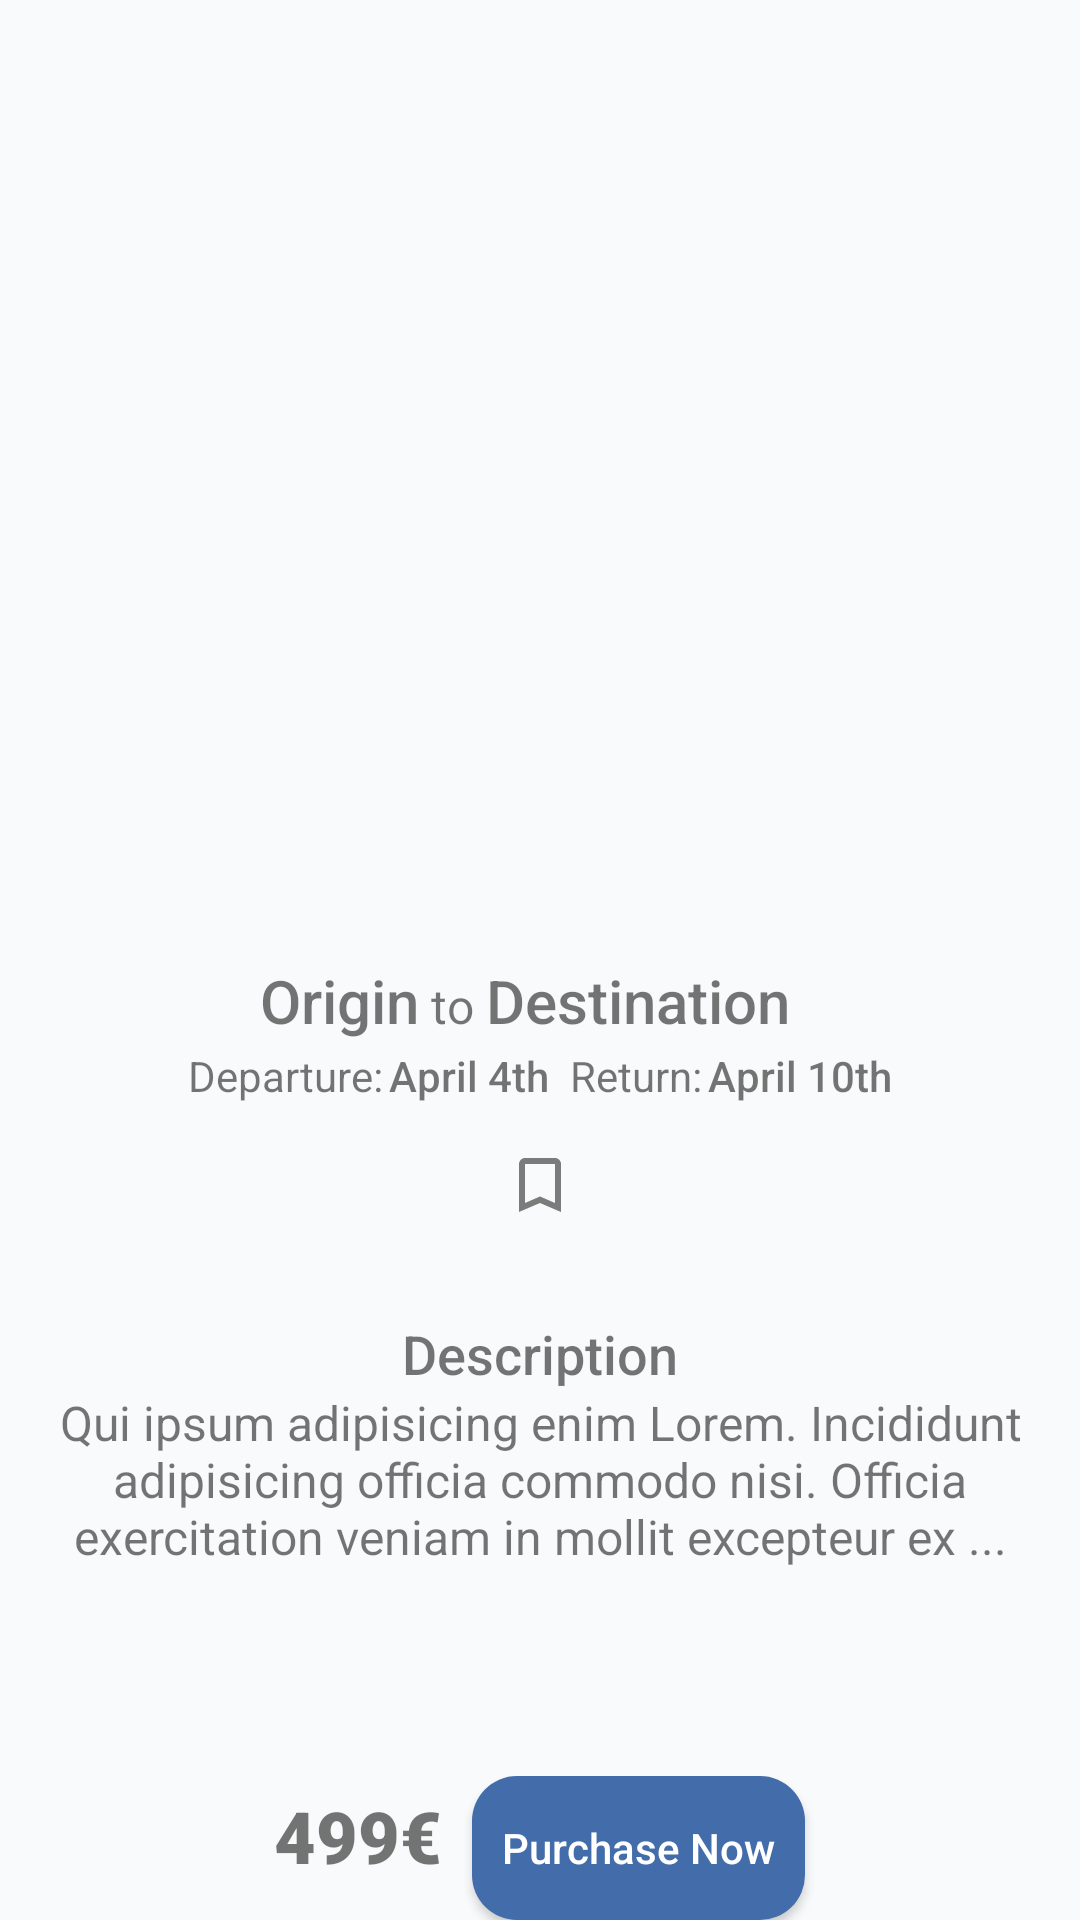

Screen size 1080px x 1920px. Icon name, then its box in pixels as (x1, y1, x2, y2):
bookmark border: (519, 1158, 561, 1212)
